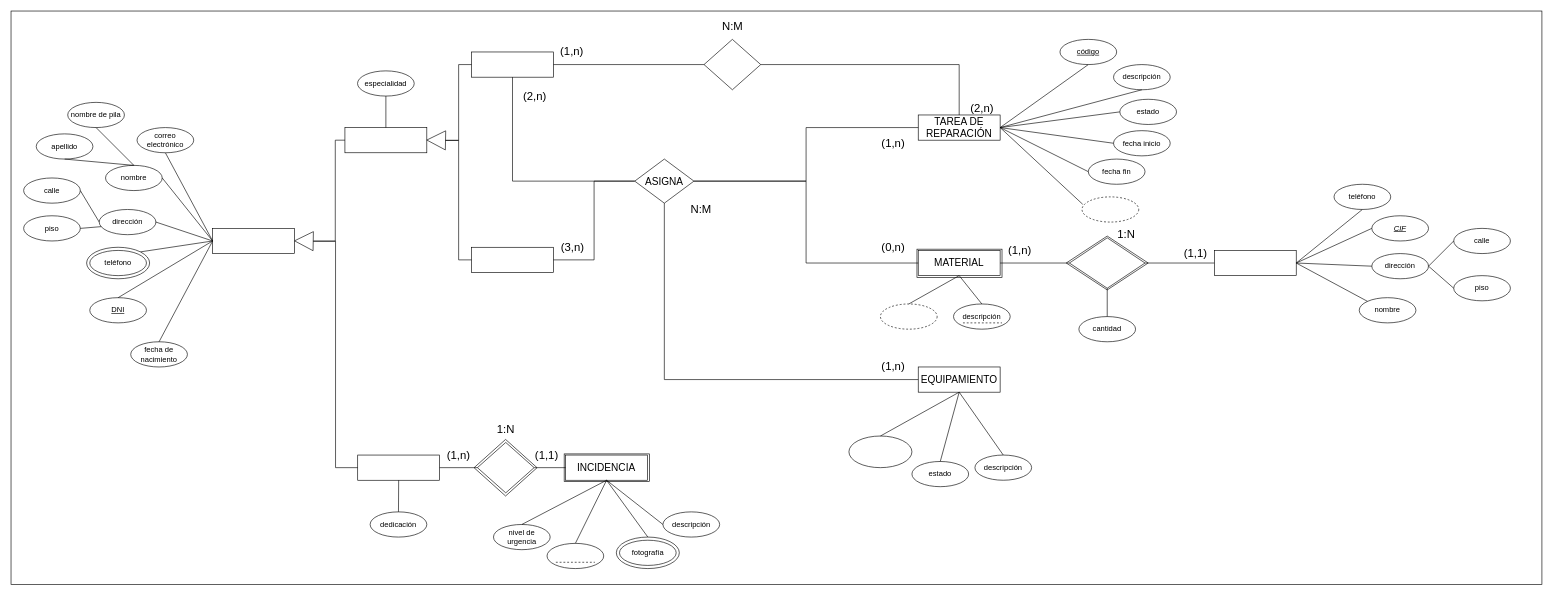
The diagram is 1553 pixels wide and 595 high, and some of its shapes have lost their labels. Here are the shapes that lost their labels. From the top down, the centre of each, then its label:
At [512,64]: "TRABAJADOR".
At [732,64]: "REALIZA".
At [385,140]: "PERSONAL".
At [1110,209]: "duración".
At [253,241]: "PERSONA".
At [512,259]: "TÉCNICO".
At [1107,262]: "SUMINISTRA".
At [1255,263]: "PROVEEDOR".
At [908,316]: "cantidad disponible".
At [398,467]: "CIUDADANO".
At [505,467]: "REPORTA".
At [880,451]: "número de serie".
At [575,556]: "ubicación".
